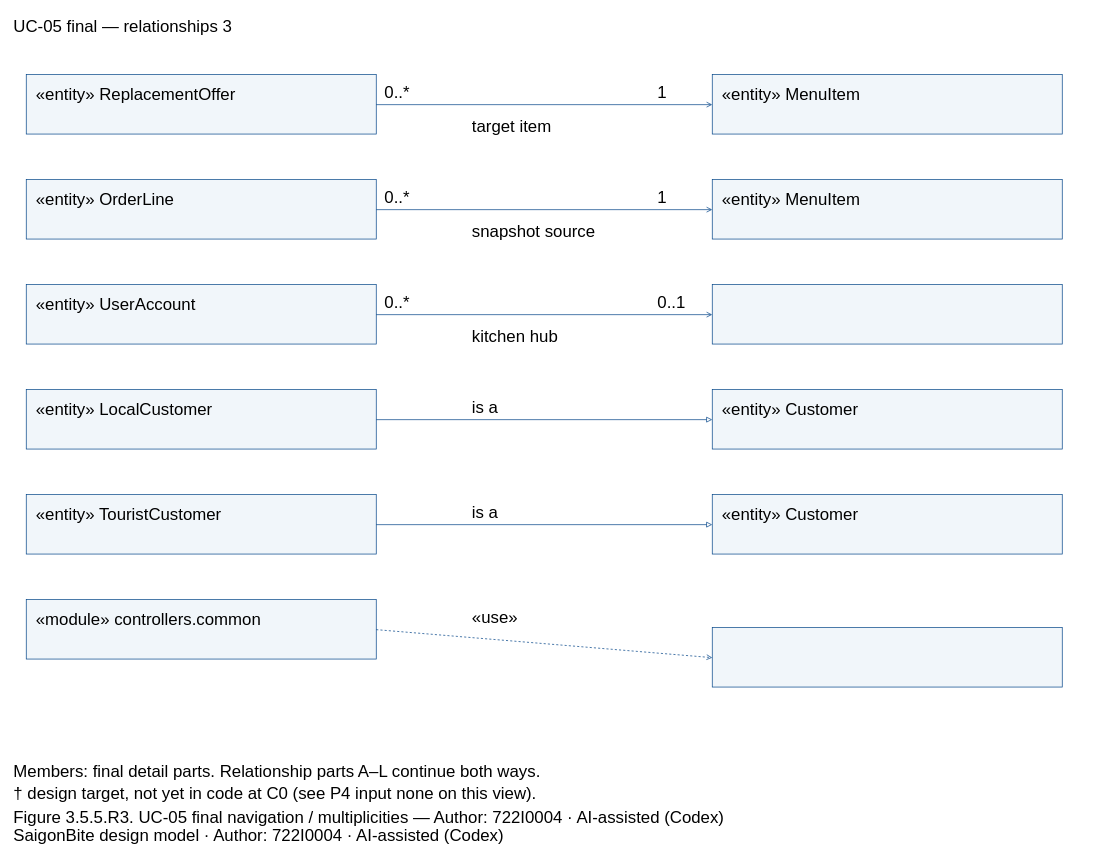
Image size: 1095x858. Some labels were removed from this diagram. Here are the shapes that lost their labels. From the top down, the box of each, then its label:
(712, 284, 1062, 344): «entity» Hub
(712, 627, 1062, 687): «entity» Order
